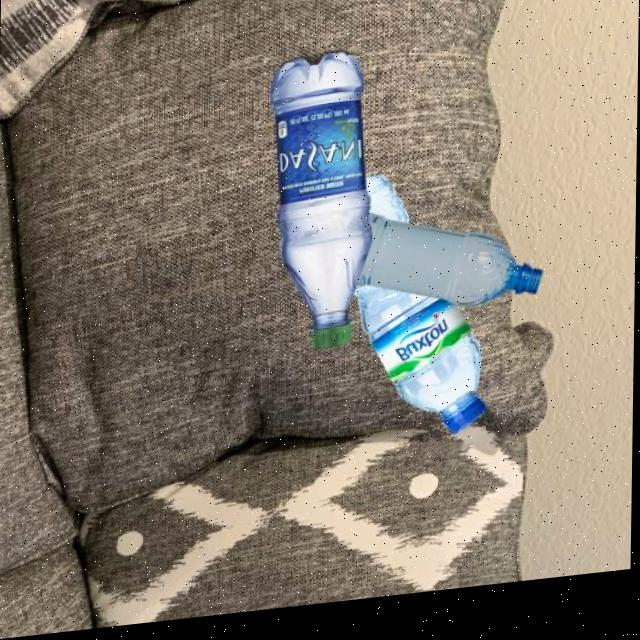litter: (429, 399, 506, 465)
